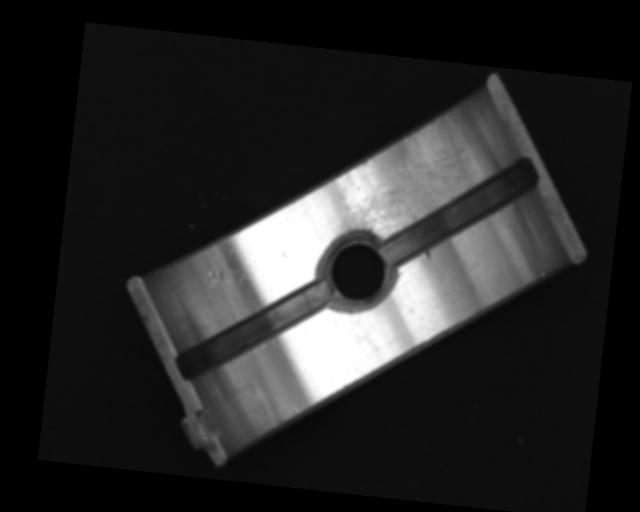bruise: (205, 267, 227, 291), (421, 247, 432, 262)
gap: (378, 144, 540, 279), (176, 267, 329, 393)
hole: (312, 229, 399, 317)
scratch: (328, 105, 482, 259)
